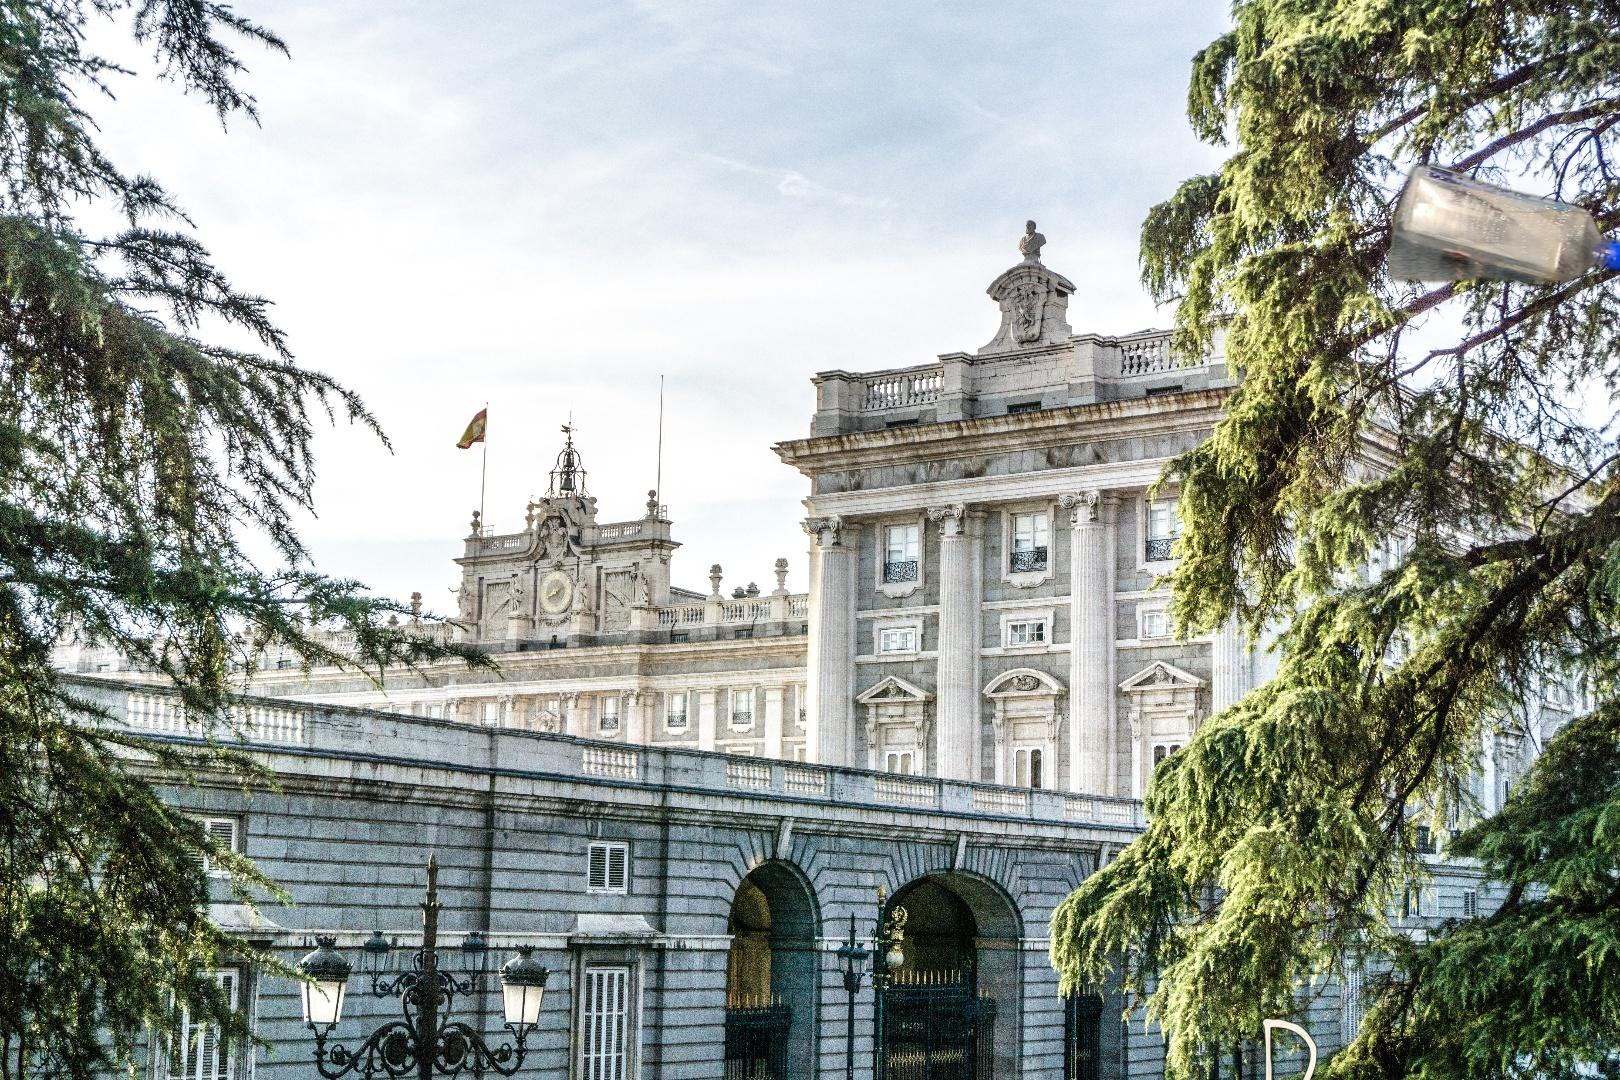paper-bag: (1175, 1012, 1446, 1080)
plastic-bottles: (1379, 158, 1620, 299)
